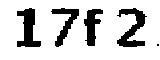1: (9, 3, 44, 54)
2: (115, 5, 148, 54)
7: (48, 1, 80, 55)
f: (81, 5, 105, 50)
